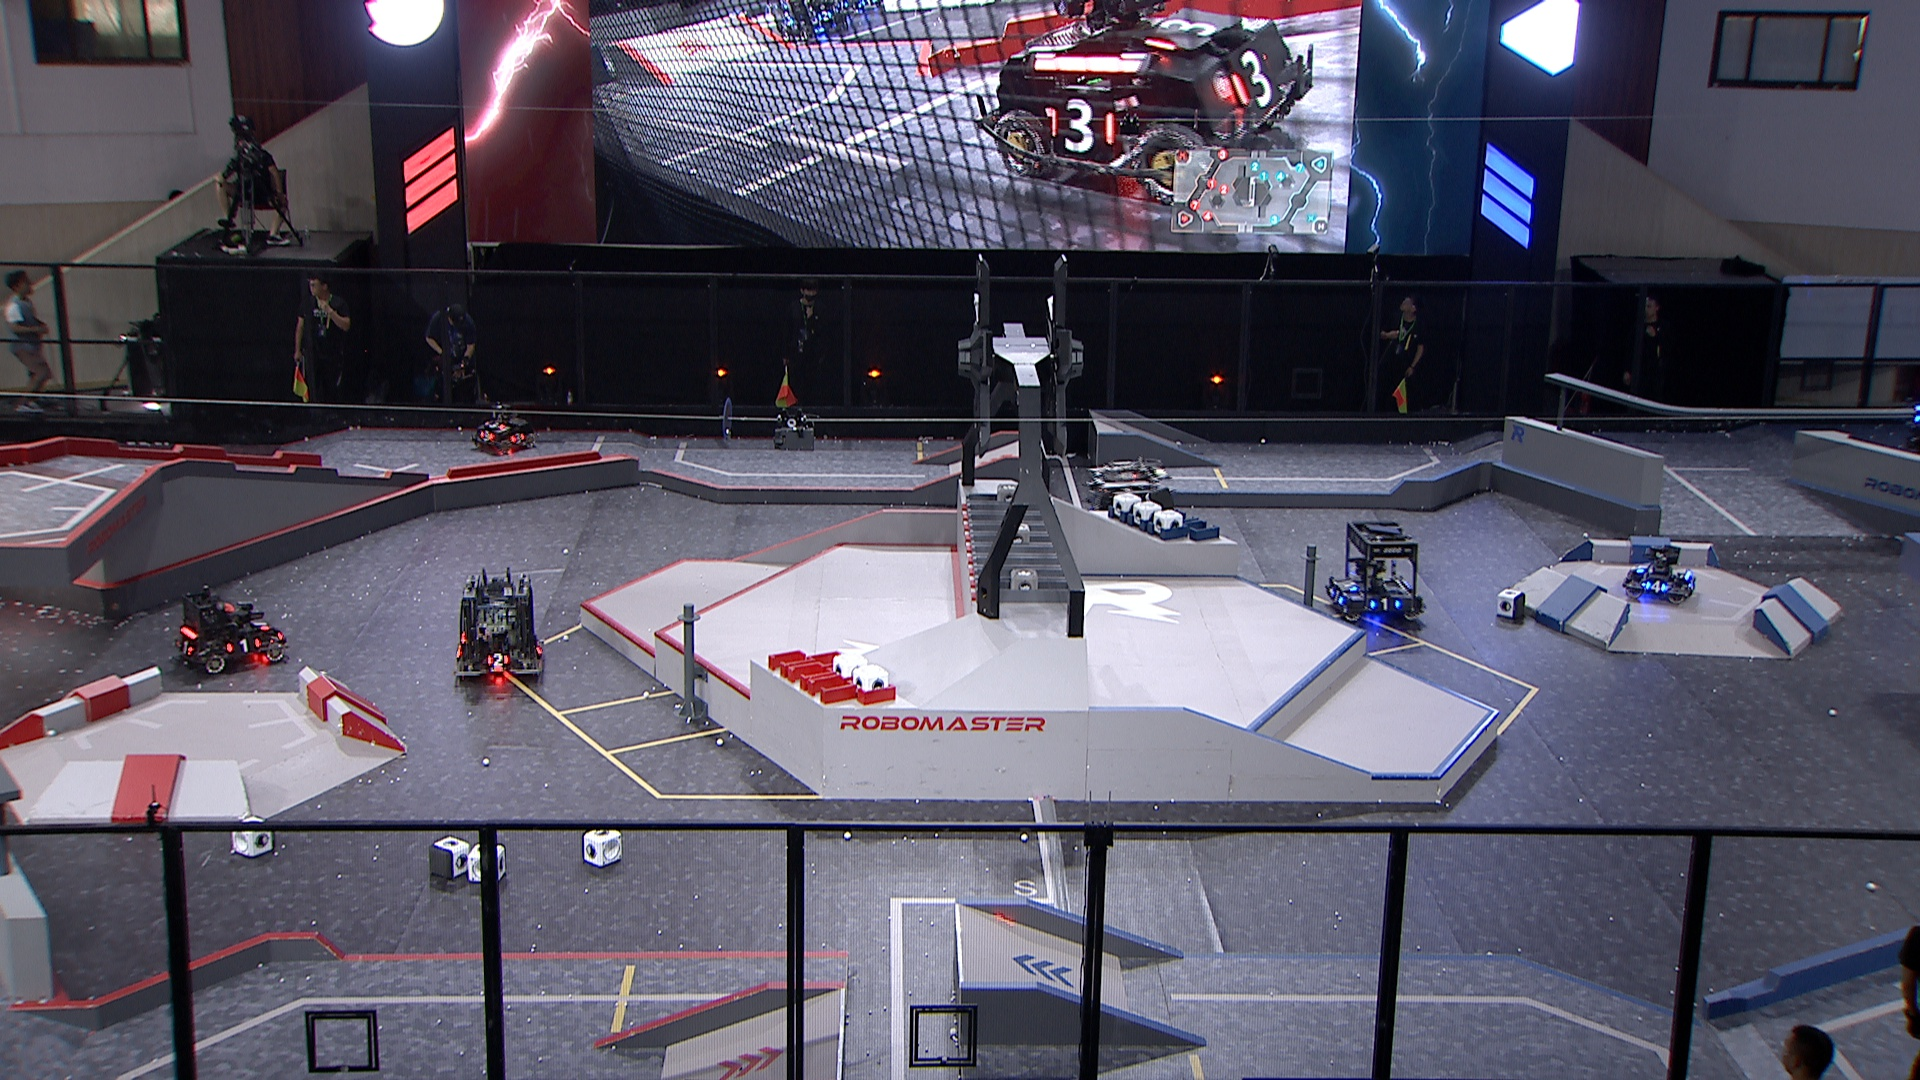armor: (225, 637, 266, 655), (1367, 597, 1400, 613), (484, 651, 512, 669), (174, 641, 196, 657), (1644, 580, 1669, 593), (251, 618, 272, 633), (483, 419, 506, 431), (1331, 588, 1346, 605), (477, 429, 496, 443), (508, 433, 527, 444), (1633, 562, 1650, 575), (1338, 580, 1360, 591)
car: (448, 566, 547, 684), (1323, 518, 1429, 626), (166, 583, 291, 673), (1083, 456, 1176, 553), (1625, 542, 1698, 607), (469, 405, 537, 452)
watcher: (1903, 398, 1920, 455)
